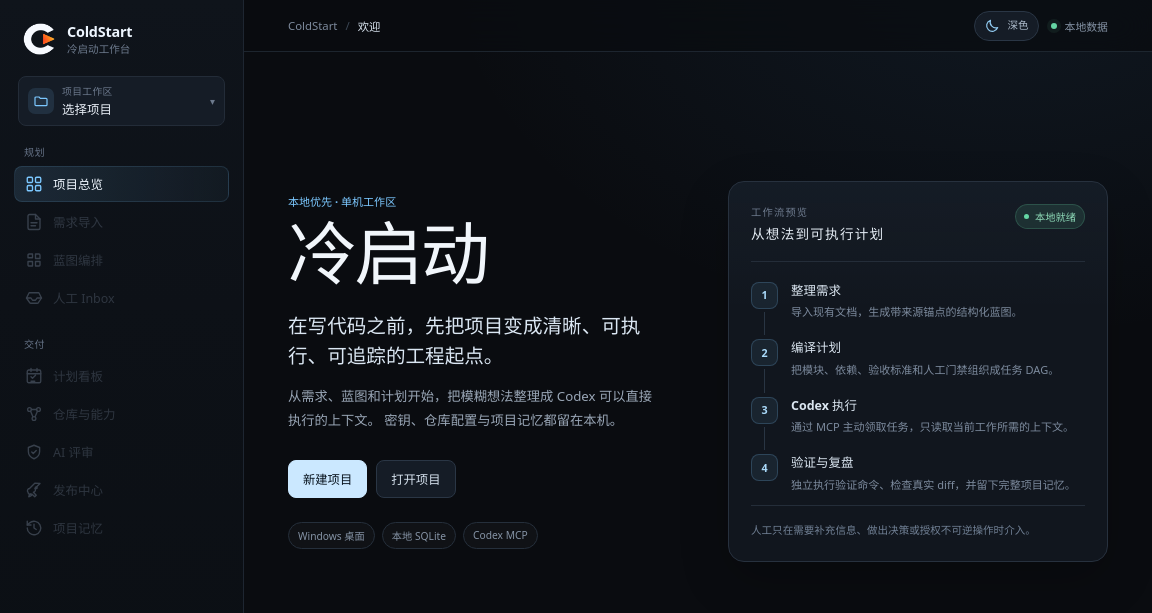
Test case: ColdStart project workspace › separates inbox counters and groups human tasks by provider and phase
Click the button "打开项目": {"x": 416, "y": 479} [376,460,456,498]
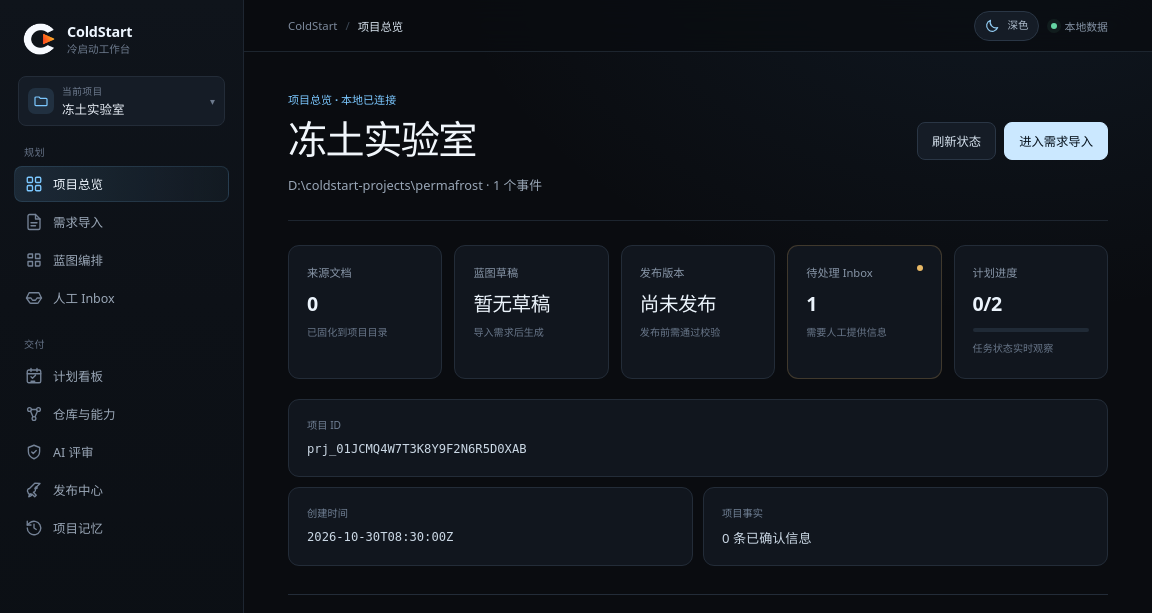
Expected: the heading "冻土实验室" is shown, [288,112,476,165]
Click the button "人工 Inbox": {"x": 122, "y": 298} [14,280,229,316]
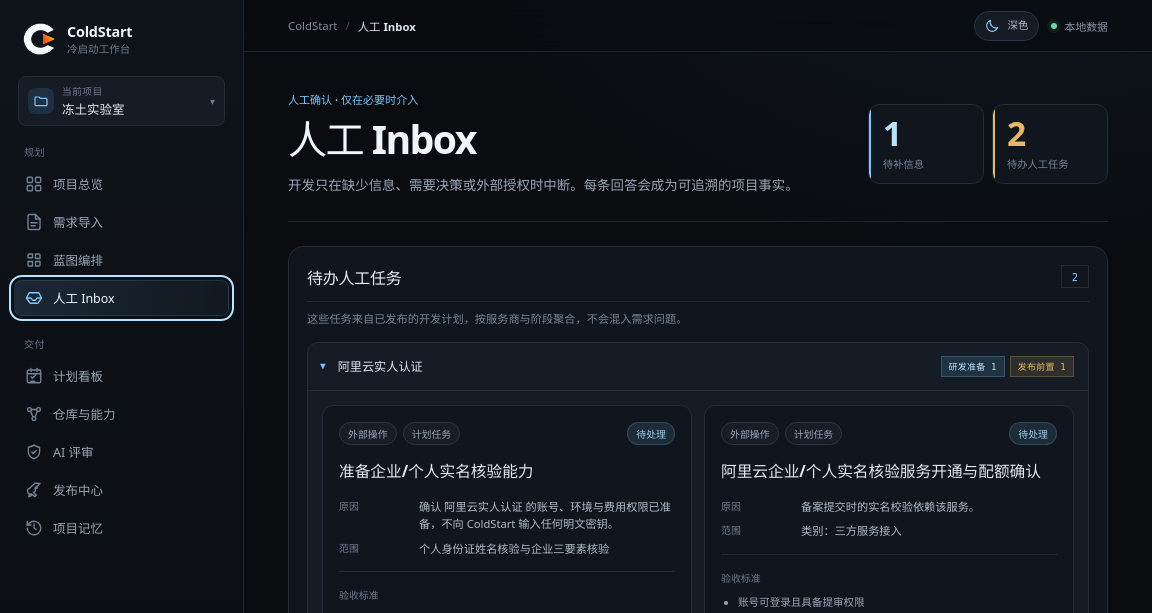
Expected: the element named "1 条待补信息，2 条待办人工任务" is shown, [868,104,1108,184]
Expected: the text "研发准备 1" is shown, [941,356,1005,377]
Expected: the text "发布前置 1" is shown, [1010,356,1074,377]
